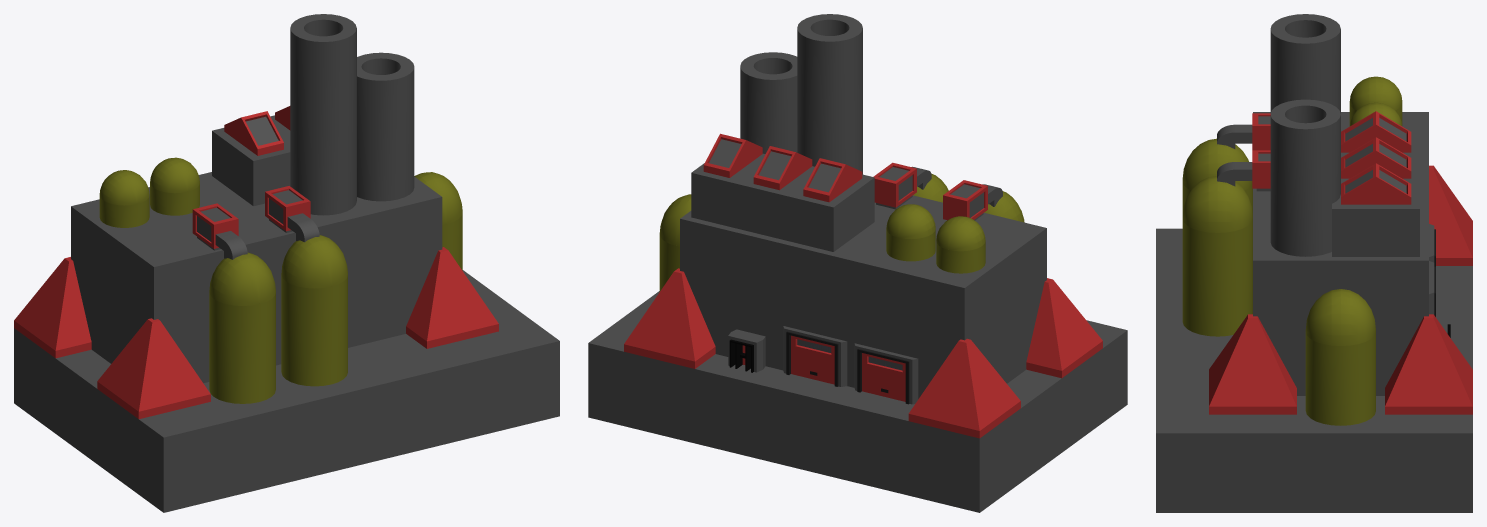
Rendered from resource.fbx.
The picture shows the model from 3 angles, left to right: view 1: azimuth 30°, elevation 25°; view 2: azimuth 150°, elevation 25°; view 3: azimuth 270°, elevation 25°; orthographic projection. The views are drawn at different scales.
Parts seen in each view (by area): view 1: block_default_92, block_default_60, cylinder_hollow_63, cylinder_hollow_62, roof_point_rounded_74, cylinder_full_86, cylinder_full_81, roof_point_rounded_75, roof_point_rounded_72, block_default_61, sphere_dome_87, sphere_dome_84 (+9 smaller); view 2: block_default_92, block_default_60, block_default_61, cylinder_hollow_63, roof_point_rounded_72, cylinder_hollow_62, roof_point_rounded_76, roof_point_rounded_74, wall_garageDoorClosed_70, wall_garageDoorClosed_71, detail_airSmall_85, detail_airSmall_83 (+11 smaller); view 3: block_default_92, block_default_60, cylinder_hollow_62, cylinder_full_86, roof_point_rounded_76, roof_point_rounded_75, cylinder_hollow_63, cylinder_full_66, block_default_61, sphere_dome_65, sphere_dome_87, roof_point_rounded_72 (+9 smaller).
Part boxes in pixels (x1,y1,x2,y2): block_default_92: (14, 270, 559, 512); block_default_60: (71, 172, 442, 383); cylinder_hollow_63: (290, 14, 356, 215); cylinder_hollow_62: (357, 52, 414, 201); roof_point_rounded_74: (97, 318, 210, 419); cylinder_full_86: (281, 275, 347, 386); cylinder_full_81: (209, 293, 275, 403); roof_point_rounded_75: (406, 247, 498, 348); roof_point_rounded_72: (14, 257, 91, 358); block_default_61: (212, 115, 290, 206); sphere_dome_87: (281, 235, 347, 288); sphere_dome_84: (209, 252, 275, 305); block_default_92: (588, 291, 1127, 512); block_default_60: (680, 195, 1046, 398); block_default_61: (691, 153, 874, 251); cylinder_hollow_63: (797, 14, 862, 174); roof_point_rounded_72: (908, 338, 1020, 438); cylinder_hollow_62: (740, 52, 797, 153); roof_point_rounded_76: (624, 268, 715, 368); roof_point_rounded_74: (1026, 278, 1102, 378); wall_garageDoorClosed_70: (783, 326, 847, 386); wall_garageDoorClosed_71: (854, 343, 918, 404); detail_airSmall_85: (873, 162, 931, 209); detail_airSmall_83: (943, 180, 1002, 220); block_default_92: (1156, 228, 1472, 512); block_default_60: (1253, 112, 1428, 395); cylinder_hollow_62: (1270, 99, 1340, 256); cylinder_full_86: (1182, 219, 1252, 336); roof_point_rounded_76: (1385, 314, 1472, 414); roof_point_rounded_75: (1209, 314, 1296, 414); cylinder_hollow_63: (1270, 14, 1340, 113); cylinder_full_66: (1305, 332, 1375, 425); block_default_61: (1332, 134, 1419, 256); sphere_dome_65: (1305, 289, 1375, 345); sphere_dome_87: (1182, 176, 1252, 232); roof_point_rounded_72: (1429, 165, 1472, 265).
Bounding box in the file's own units: 55 × 50 × 36.
